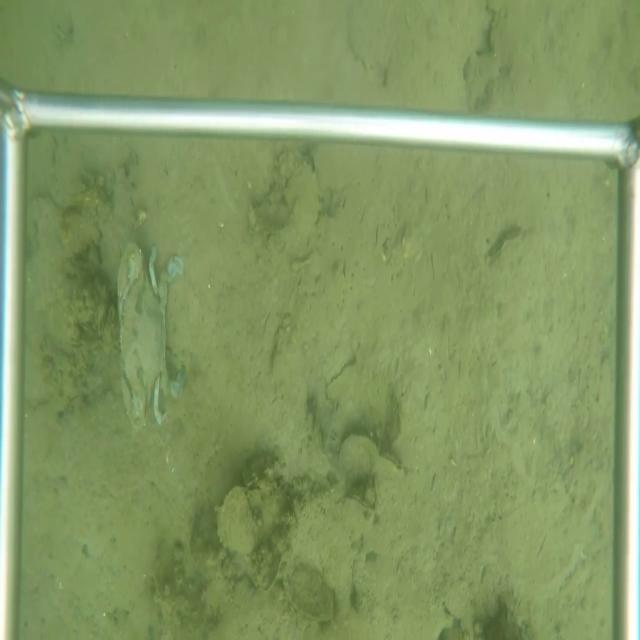Oyster-Closed: (339, 427, 407, 492), (281, 557, 338, 630), (482, 227, 530, 272)
Oyster-Indeterminate: (214, 479, 294, 556)
